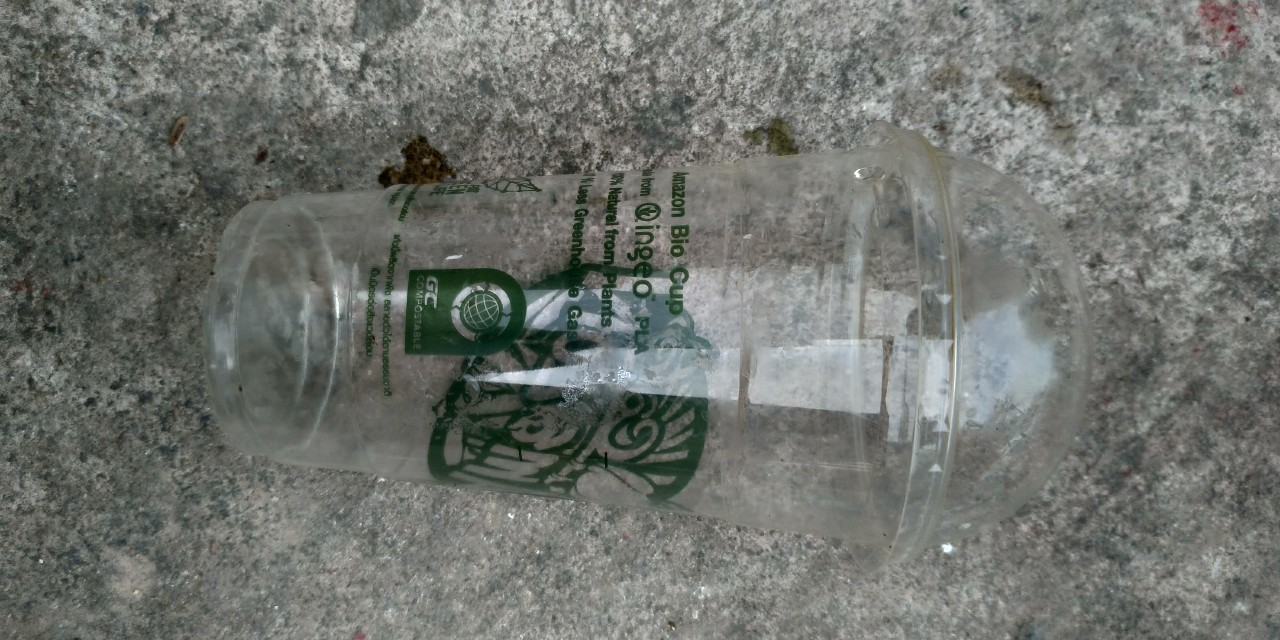PlasticCup: (204, 116, 1095, 567)
